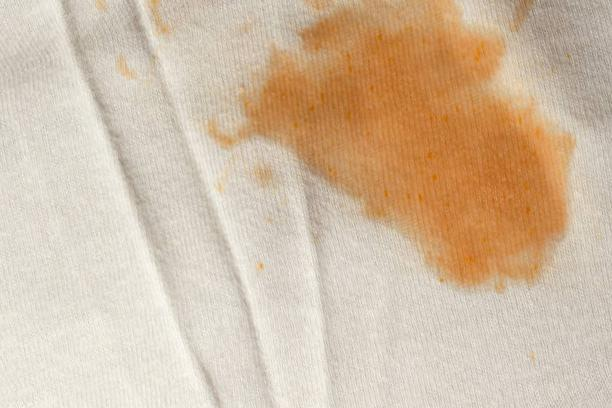stain: (200, 0, 582, 302), (139, 2, 178, 45), (110, 47, 141, 83), (90, 0, 113, 18)
